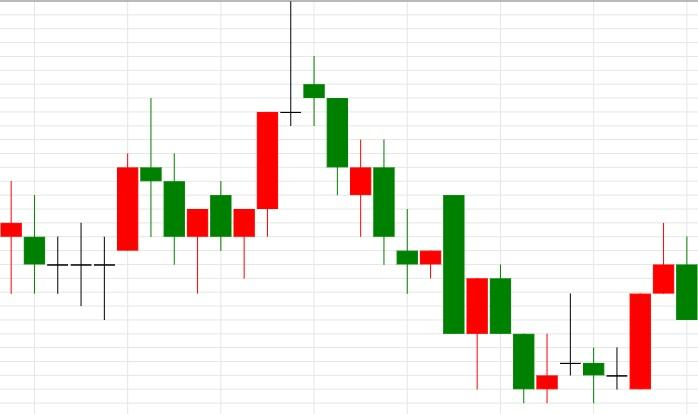hammer_rise: (140, 99, 210, 294)
